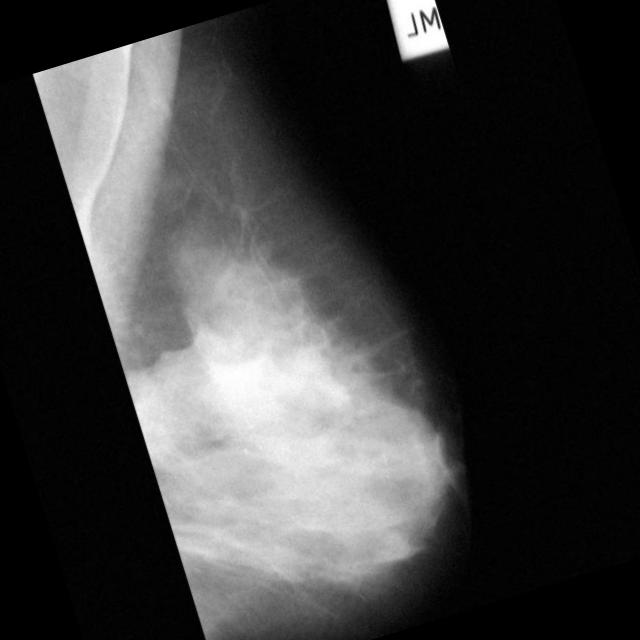ASYM: (104, 390, 184, 470)
